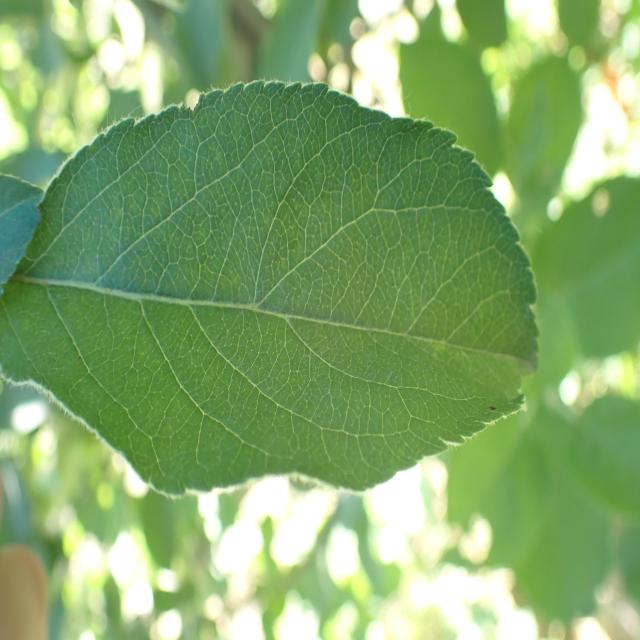healthy: (0, 78, 542, 499)
